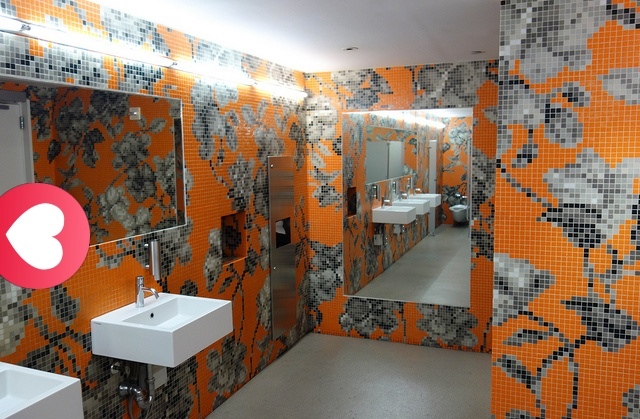love: (0, 183, 90, 289)
